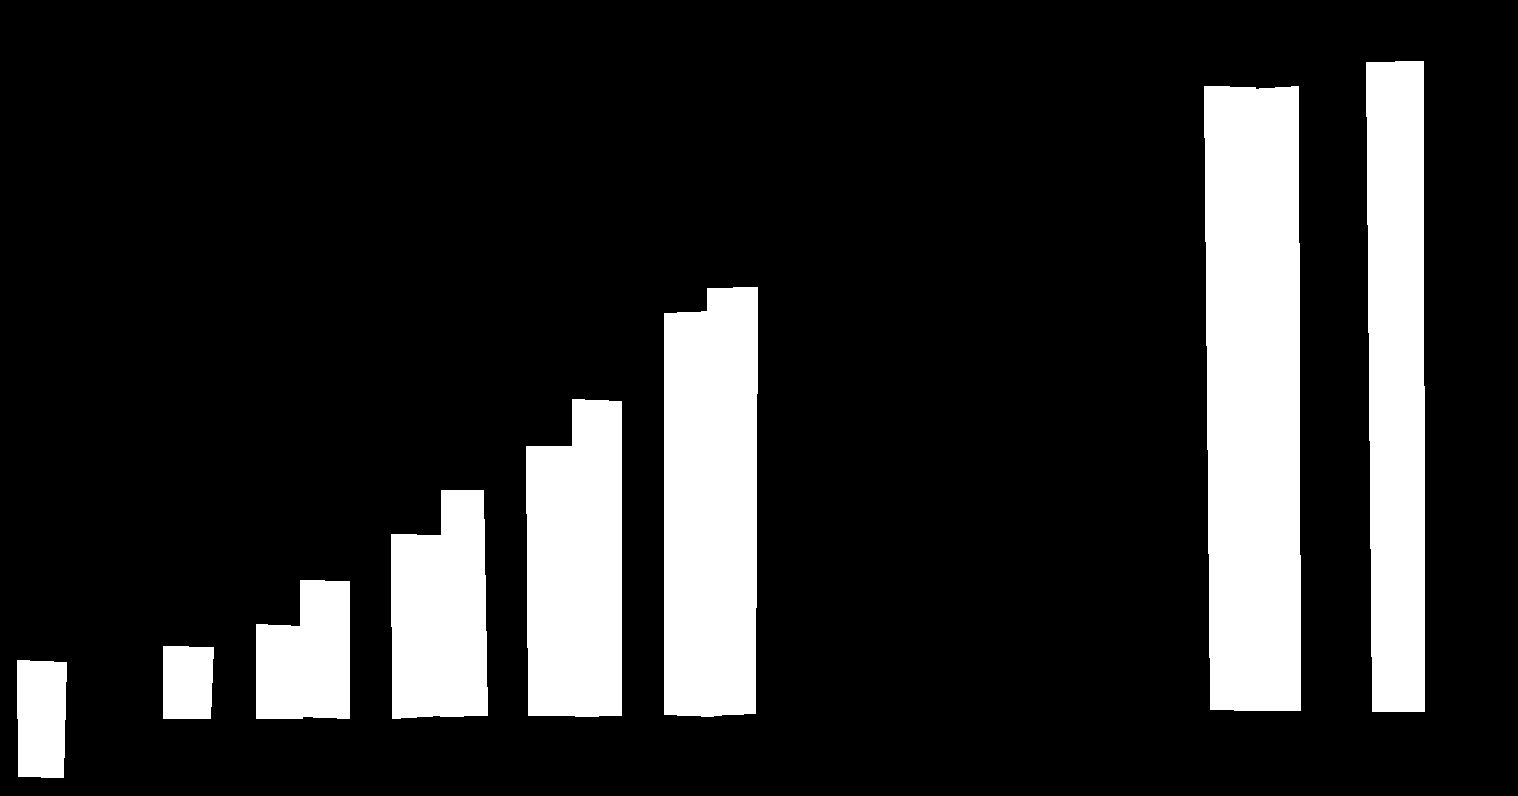parkingspot: (1366, 61, 1424, 711), (1204, 86, 1256, 710), (1250, 86, 1300, 710), (707, 287, 757, 715), (664, 311, 713, 716), (572, 399, 621, 716), (526, 446, 576, 715), (440, 490, 487, 716), (391, 534, 442, 718), (300, 580, 349, 718), (17, 660, 66, 777), (256, 624, 302, 718), (163, 646, 213, 718)
